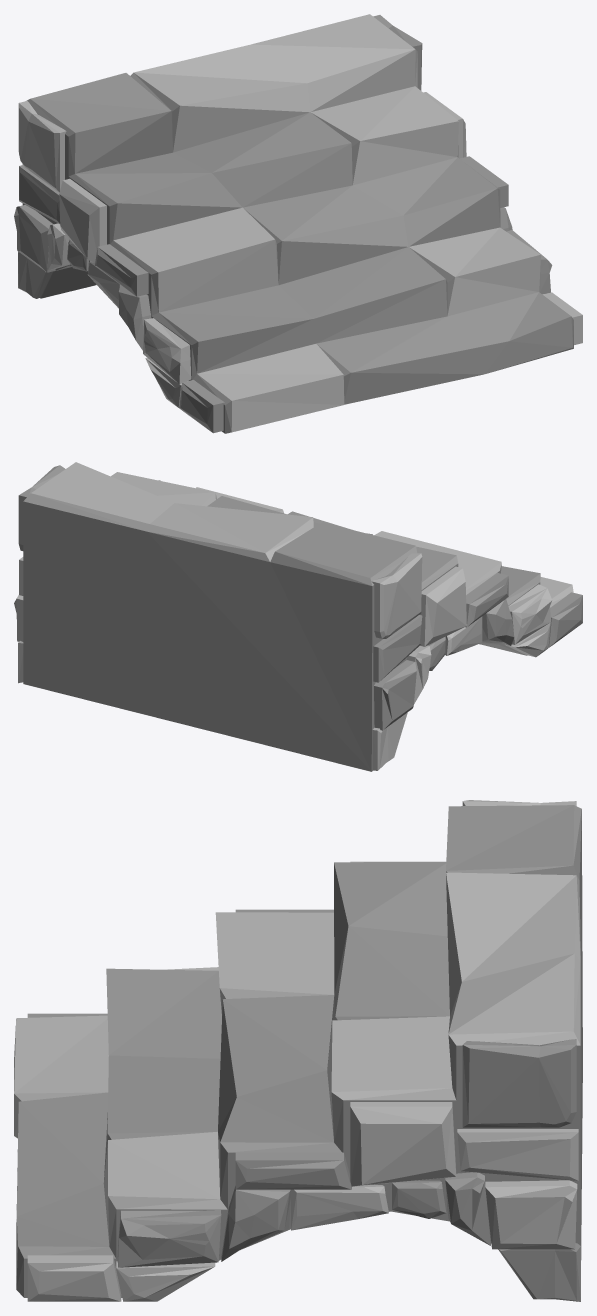
The model's file is _STAIRS_05_1.fbx.
The picture shows the model from 3 angles, top to bottom: view 1: azimuth 30°, elevation 25°; view 2: azimuth 150°, elevation 25°; view 3: azimuth 270°, elevation 25°; orthographic projection. The views are drawn at different scales.
Parts seen in each view (by area): view 1: STAIRS_05_1; view 2: STAIRS_05_1; view 3: STAIRS_05_1.
Part boxes in pixels (x1,y1,x2,y2): STAIRS_05_1: (14, 14, 582, 433); STAIRS_05_1: (14, 462, 582, 771); STAIRS_05_1: (14, 800, 582, 1301).
Bounding box in the file's own units: 109 × 52.96 × 102.
